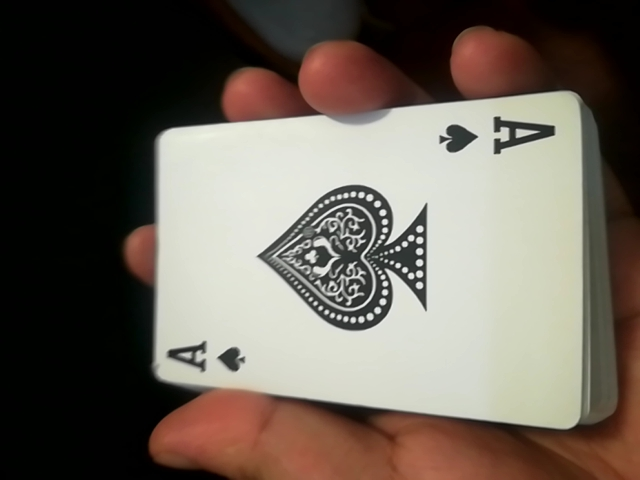ht a: (132, 109, 585, 440)
